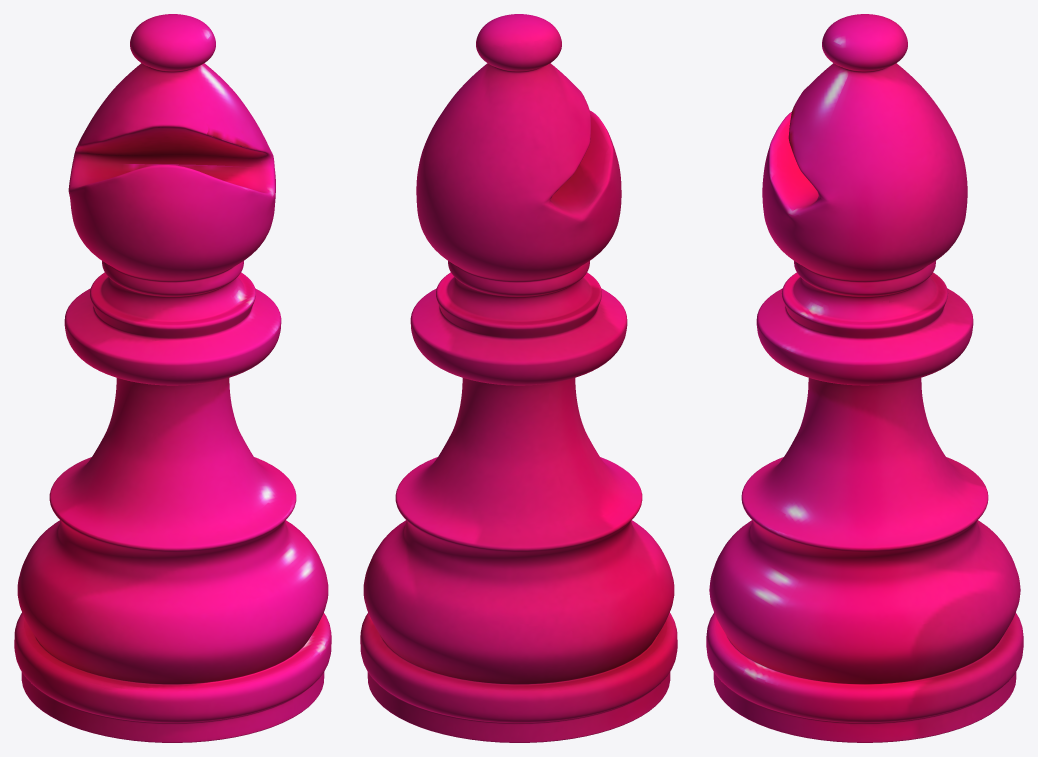
File: bishop.gltf
The picture shows the model from 3 angles, left to right: view 1: azimuth 30°, elevation 25°; view 2: azimuth 150°, elevation 25°; view 3: azimuth 270°, elevation 25°; orthographic projection.
Parts seen in each view (by area): view 1: Object001.002; view 2: Object001.002; view 3: Object001.002.
Boxes of the visible parts, x1,y1,x2,y2 form: Object001.002: (14,14,331,742); Object001.002: (360,14,677,742); Object001.002: (706,14,1023,742).
Bounding box in the file's own units: 3.77 × 8.62 × 3.77.
1 material, 1 textured.
